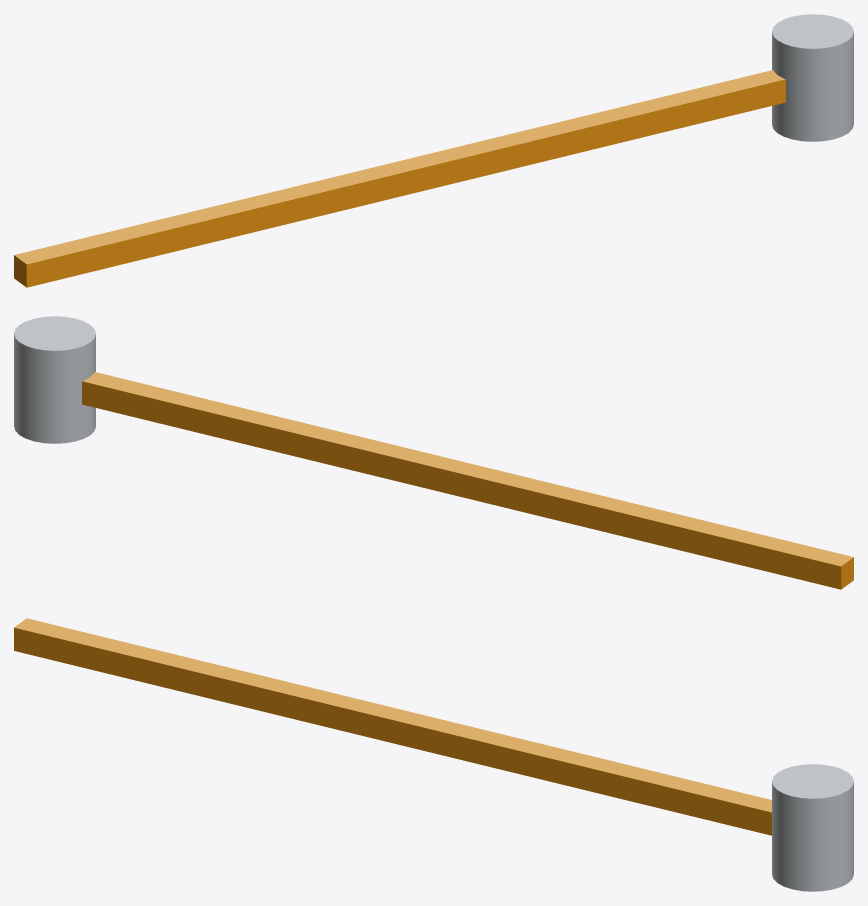
File: Obstacles.001.fbx
3 views of the same model, one above another, from view 1: azimuth 30°, elevation 25°; view 2: azimuth 150°, elevation 25°; view 3: azimuth 330°, elevation 25° (orthographic).
Parts seen in each view (by area): view 1: Obstacles.001; view 2: Obstacles.001; view 3: Obstacles.001.
Part boxes in pixels (left/top/right/bottom): Obstacles.001: left=14, top=14, right=853, bottom=287; Obstacles.001: left=14, top=316, right=853, bottom=589; Obstacles.001: left=14, top=618, right=853, bottom=891.
Size of the model in its own units: 13.05 by 1.4 by 1.12.
